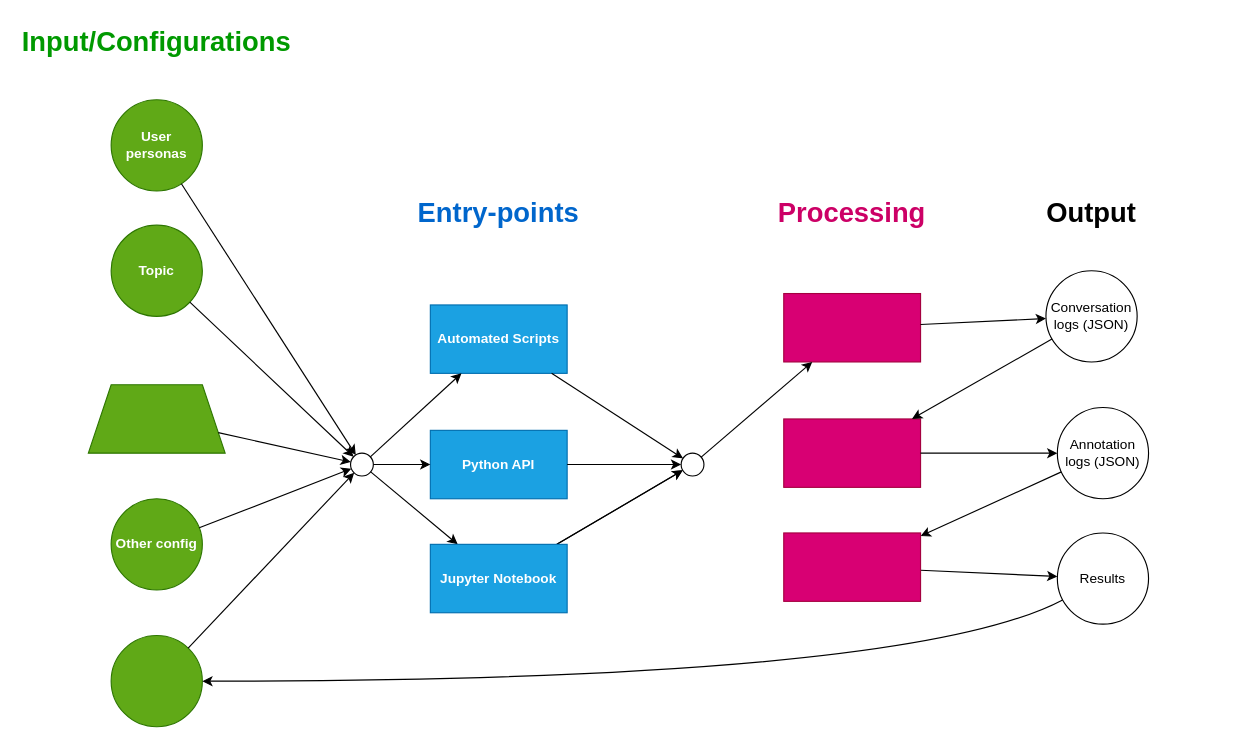
The diagram is 1247 pixels wide and 747 high, and some of its shapes have lost their labels. Each missing label, with the centre of its shape:
Data Analysis: (852,566)
Generate Annotation: (852,452)
Generate Conversation: (852,327)
LLM: (156,418)
Prompts: (156,680)
